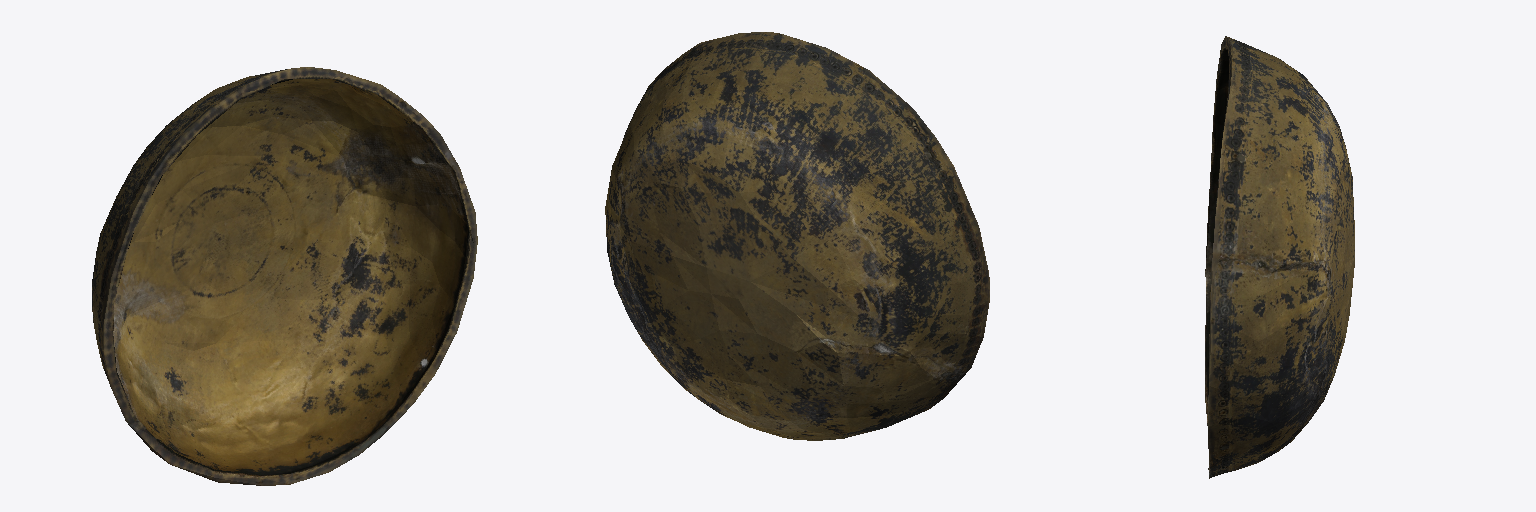
3 views of the same model, side by side, from view 1: azimuth 30°, elevation 25°; view 2: azimuth 150°, elevation 25°; view 3: azimuth 270°, elevation 25° (orthographic).
Bounding box in the file's own units: 0.0763 × 0.0788 × 0.0266.
Materials: 1 (1 with a texture image).